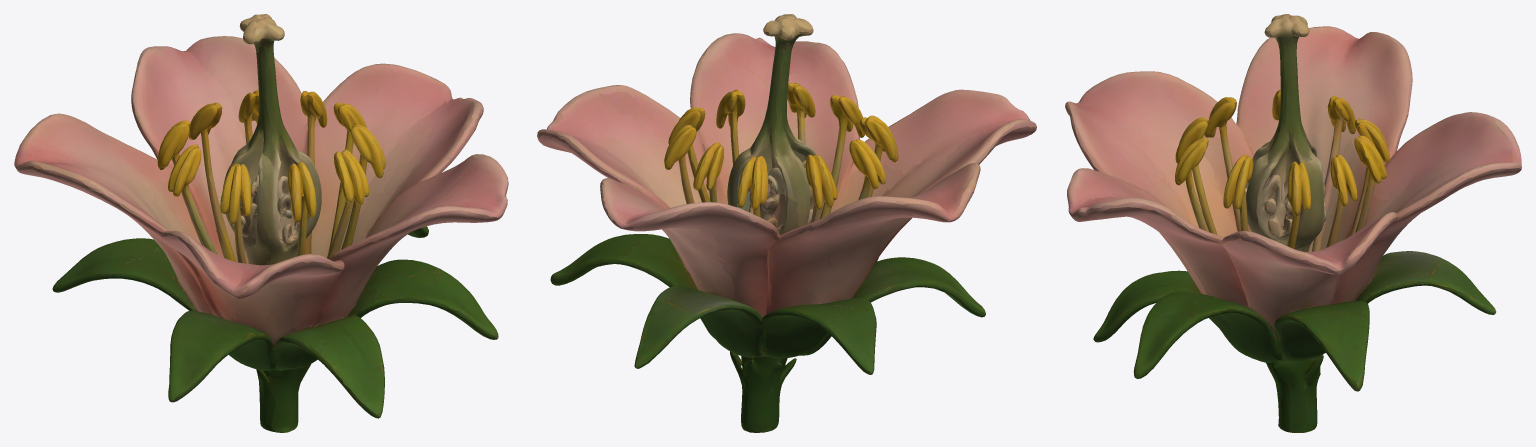
File: flower-trellis.glb
3 renders of one model, left to right at view 1: azimuth 30°, elevation 25°; view 2: azimuth 150°, elevation 25°; view 3: azimuth 270°, elevation 25°, orthographic. The views are drawn at different scales.
Visible parts, largest first — view 1: petal, sepal, stamen, pistil, stem; view 2: petal, sepal, stamen, pistil, stem; view 3: petal, sepal, stamen, pistil, stem.
Part boxes in pixels (<box>): petal: <box>14,36,508,341</box>; sepal: <box>52,226,498,418</box>; stamen: <box>157,90,369,263</box>; pistil: <box>223,14,321,265</box>; stem: <box>256,364,310,432</box>; petal: <box>537,33,1036,317</box>; sepal: <box>550,234,985,374</box>; stamen: <box>664,83,898,222</box>; pistil: <box>727,14,823,234</box>; stem: <box>730,351,796,432</box>; petal: <box>1065,26,1521,331</box>; sepal: <box>1093,251,1496,391</box>; stamen: <box>1175,89,1386,251</box>; pistil: <box>1245,14,1326,252</box>; stem: <box>1266,354,1323,432</box>.
Size of the model in its own units: 0.1 by 0.0921 by 0.0954.
1 material, 1 textured.
